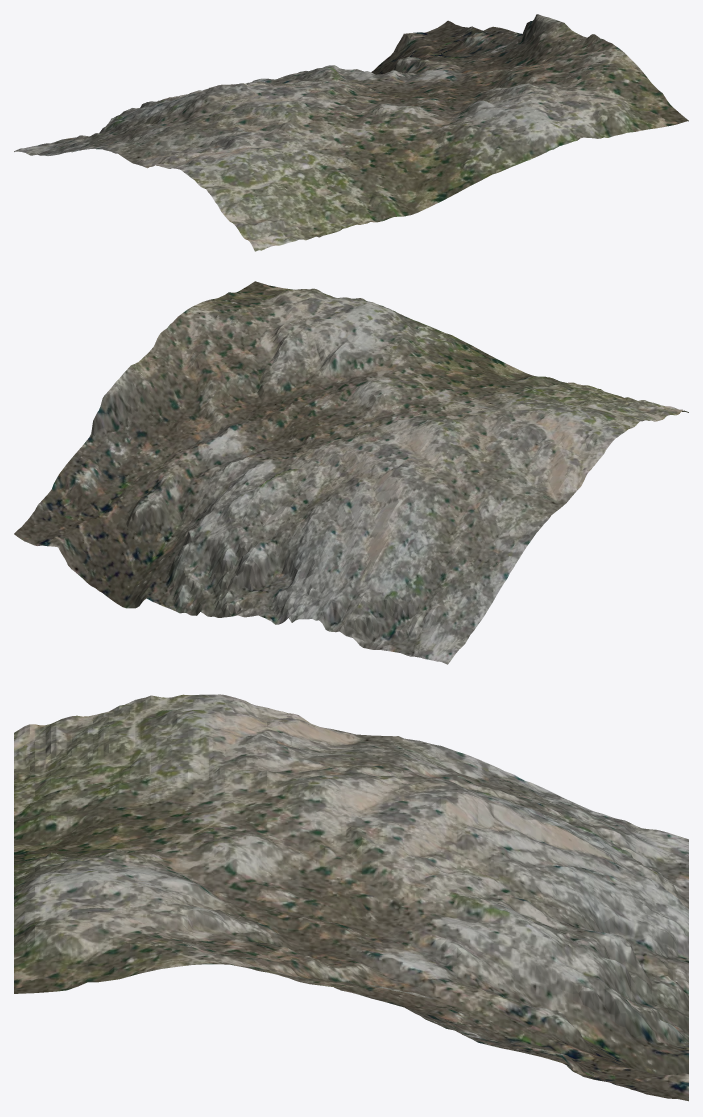
3 renders of one model, top to bottom at view 1: azimuth 30°, elevation 25°; view 2: azimuth 150°, elevation 25°; view 3: azimuth 270°, elevation 25°, orthographic. The views are drawn at different scales.
Size of the model in its own units: 500 by 160 by 481.
1 material, 1 textured.
